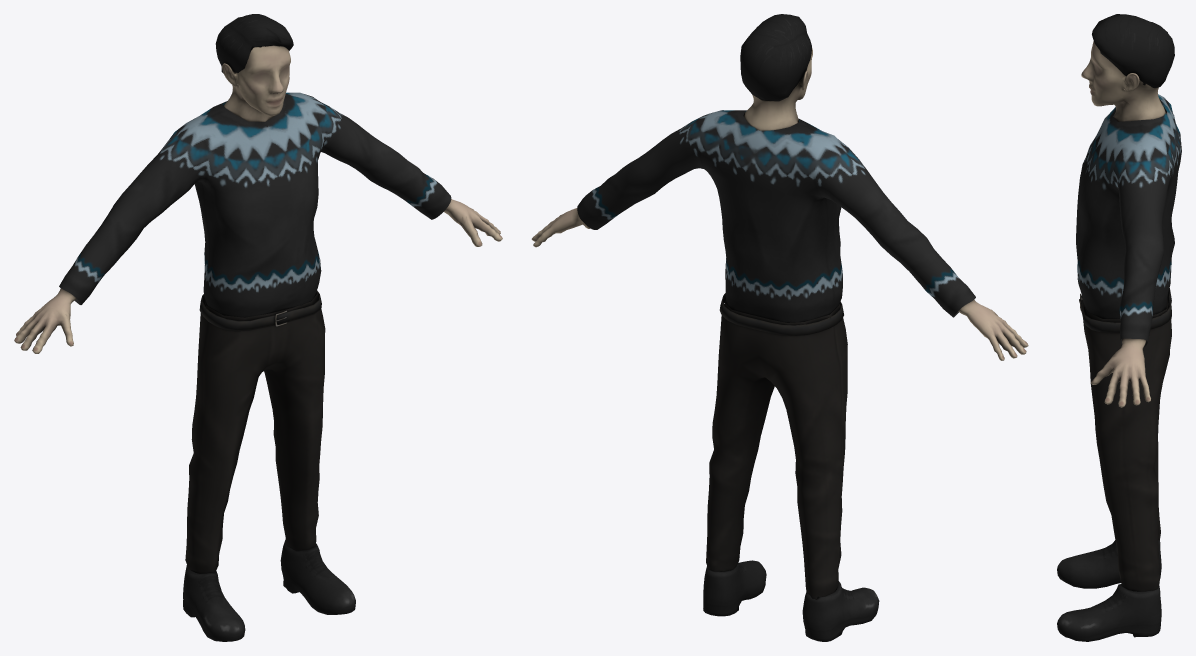
Rendered from ggall1.obj.
3 renders of one model, left to right at view 1: azimuth 30°, elevation 25°; view 2: azimuth 150°, elevation 25°; view 3: azimuth 270°, elevation 25°, orthographic.
Visible parts, largest first — view 1: gg_gg_body_body_PM3D_Sphere3D2.001_gg_gg_body_body_PM3D_Sphere3D; view 2: gg_gg_body_body_PM3D_Sphere3D2.001_gg_gg_body_body_PM3D_Sphere3D; view 3: gg_gg_body_body_PM3D_Sphere3D2.001_gg_gg_body_body_PM3D_Sphere3D.
Part boxes in pixels (bbox=[...]): gg_gg_body_body_PM3D_Sphere3D2.001_gg_gg_body_body_PM3D_Sphere3D: bbox=[14, 14, 502, 641]; gg_gg_body_body_PM3D_Sphere3D2.001_gg_gg_body_body_PM3D_Sphere3D: bbox=[531, 14, 1028, 641]; gg_gg_body_body_PM3D_Sphere3D2.001_gg_gg_body_body_PM3D_Sphere3D: bbox=[1057, 14, 1181, 641].
Size of the model in its own units: 2.98 by 3.5 by 0.6721.
1 material, 1 textured.
